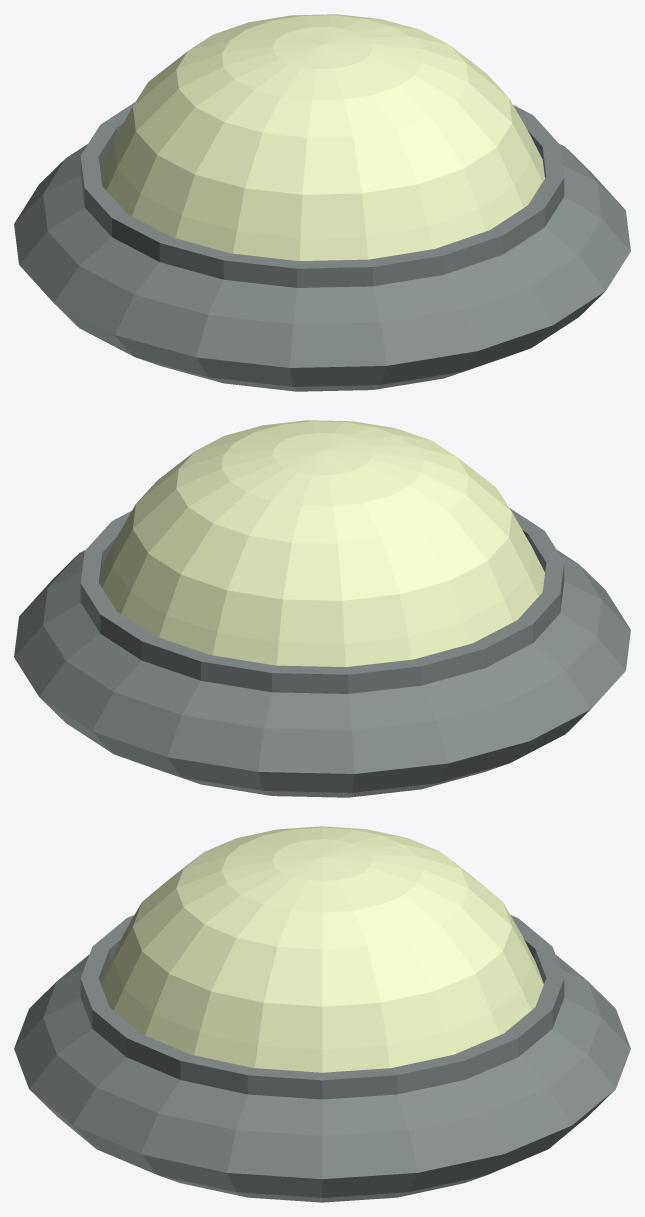
Rendered from SM_UFO.fbx.
3 views of the same model, one above another, from view 1: azimuth 30°, elevation 25°; view 2: azimuth 150°, elevation 25°; view 3: azimuth 270°, elevation 25° (orthographic).
Parts seen in each view (by area): view 1: pCylinder5; view 2: pCylinder5; view 3: pCylinder5.
Part boxes in pixels (x1,y1,x2,y2): pCylinder5: (14, 14, 630, 391); pCylinder5: (14, 420, 630, 797); pCylinder5: (14, 826, 630, 1202).
Size of the model in its own units: 865 by 376 by 865.
